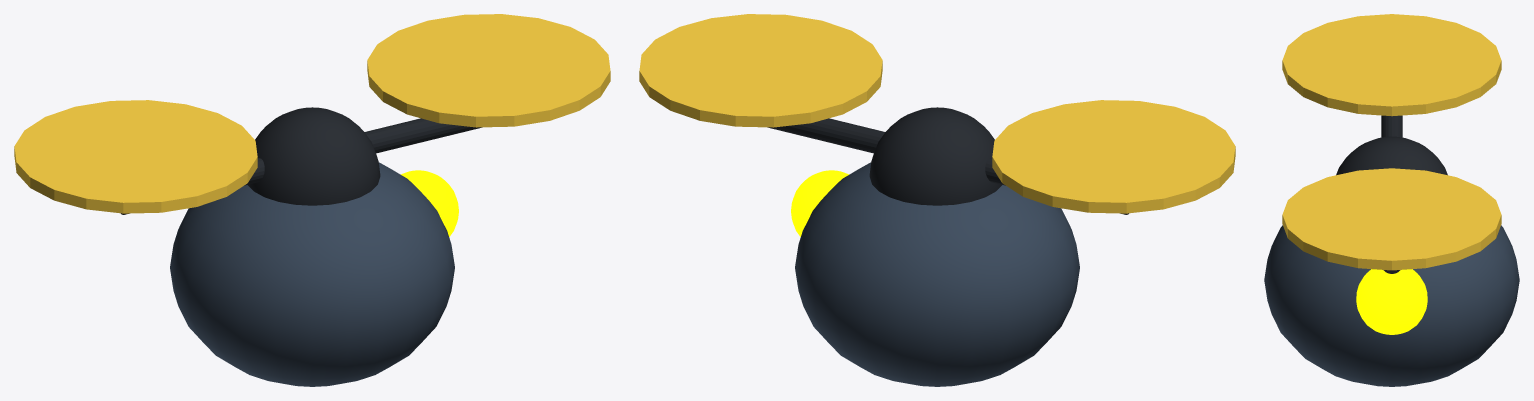
File: flyer.glb
3 views of the same model, side by side, from view 1: azimuth 30°, elevation 25°; view 2: azimuth 150°, elevation 25°; view 3: azimuth 270°, elevation 25° (orthographic). The views are drawn at different scales.
Parts seen in each view (by area): view 1: Sphere, Cylinder.001, Sphere.001, Sphere.002; view 2: Sphere, Cylinder.001, Sphere.001, Sphere.002; view 3: Cylinder.001, Sphere, Sphere.002, Sphere.001.
Part boxes in pixels (x1,y1,x2,y2): Sphere: (170,162,454,386); Cylinder.001: (14,14,610,213); Sphere.001: (121,107,482,214); Sphere.002: (401,170,458,236); Sphere: (795,162,1079,386); Cylinder.001: (639,14,1235,213); Sphere.001: (767,107,1128,214); Sphere.002: (791,170,848,236); Cylinder.001: (1282,14,1501,270); Sphere: (1264,225,1519,386); Sphere.002: (1356,269,1427,334); Sphere.001: (1336,115,1447,273).
Bounding box in the file's own units: 1.92 × 0.8535 × 0.84.
